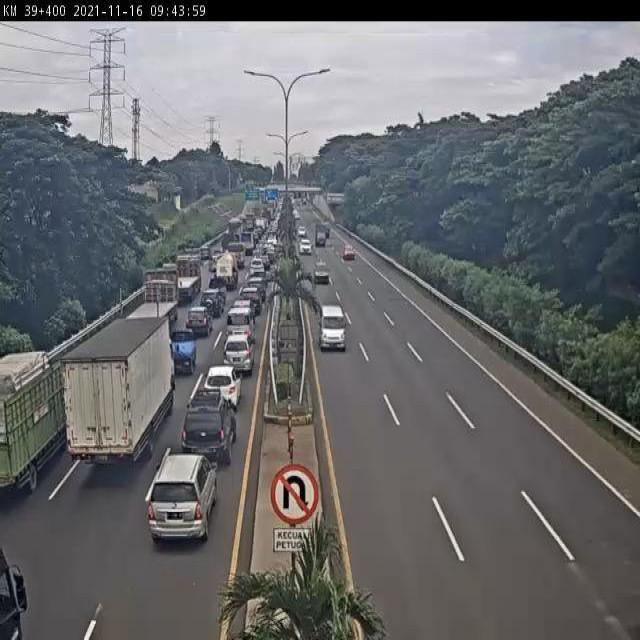car: (144, 452, 219, 547), (183, 393, 235, 468), (205, 364, 246, 413), (222, 331, 255, 376), (167, 331, 198, 377), (319, 302, 346, 354), (227, 310, 256, 346), (184, 306, 214, 338), (201, 287, 228, 317), (239, 287, 264, 316), (313, 258, 334, 290), (231, 296, 254, 325), (224, 241, 245, 268), (248, 274, 268, 298), (313, 220, 328, 248), (248, 259, 266, 277), (297, 237, 313, 255), (343, 244, 358, 261)
truck-l-: (113, 267, 179, 329), (169, 255, 204, 305)
truck-m-: (61, 315, 173, 477), (0, 345, 70, 495), (210, 252, 240, 291)
